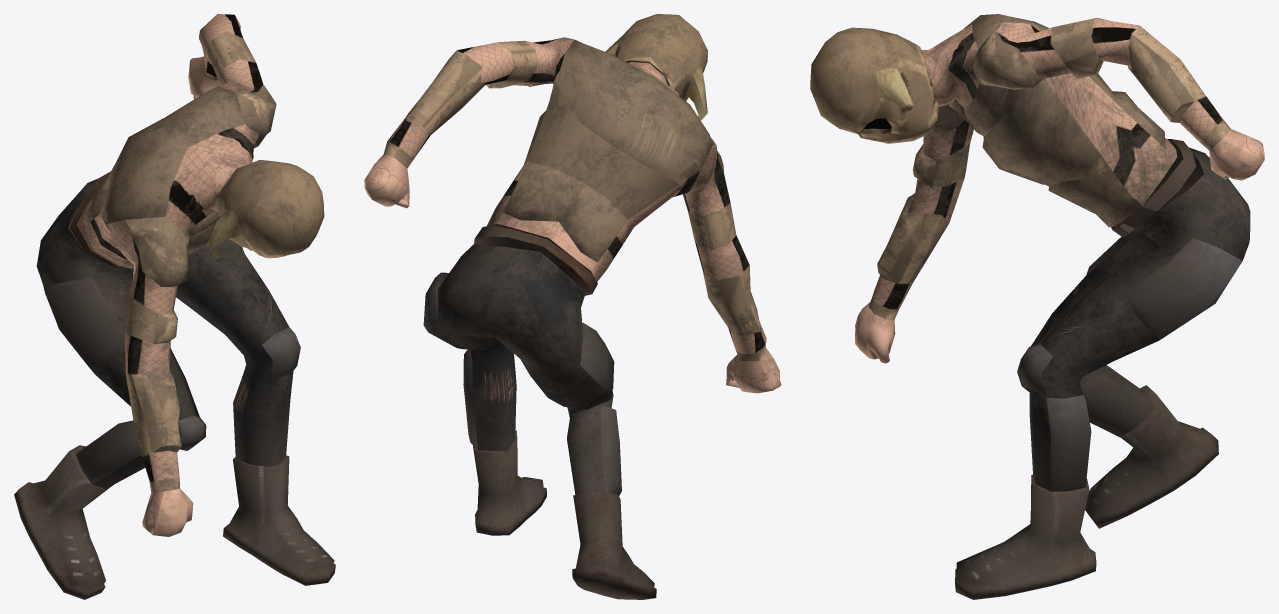
Rendered from Anim_cogerobjeto_npc1.0027.obj.
3 renders of one model, left to right at view 1: azimuth 30°, elevation 25°; view 2: azimuth 150°, elevation 25°; view 3: azimuth 270°, elevation 25°, orthographic. The views are drawn at different scales.
Visible parts, largest first — view 1: NPC2; view 2: NPC2; view 3: NPC2.
Part boxes in pixels (left/top/right/bottom): NPC2: left=14, top=14, right=335, bottom=599; NPC2: left=364, top=14, right=781, bottom=599; NPC2: left=810, top=14, right=1264, bottom=599.
Bounding box in the file's own units: 3.3 × 6.79 × 4.86.
